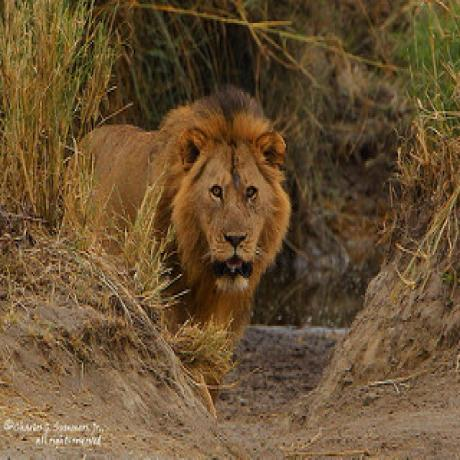Lion: (72, 90, 291, 399)
